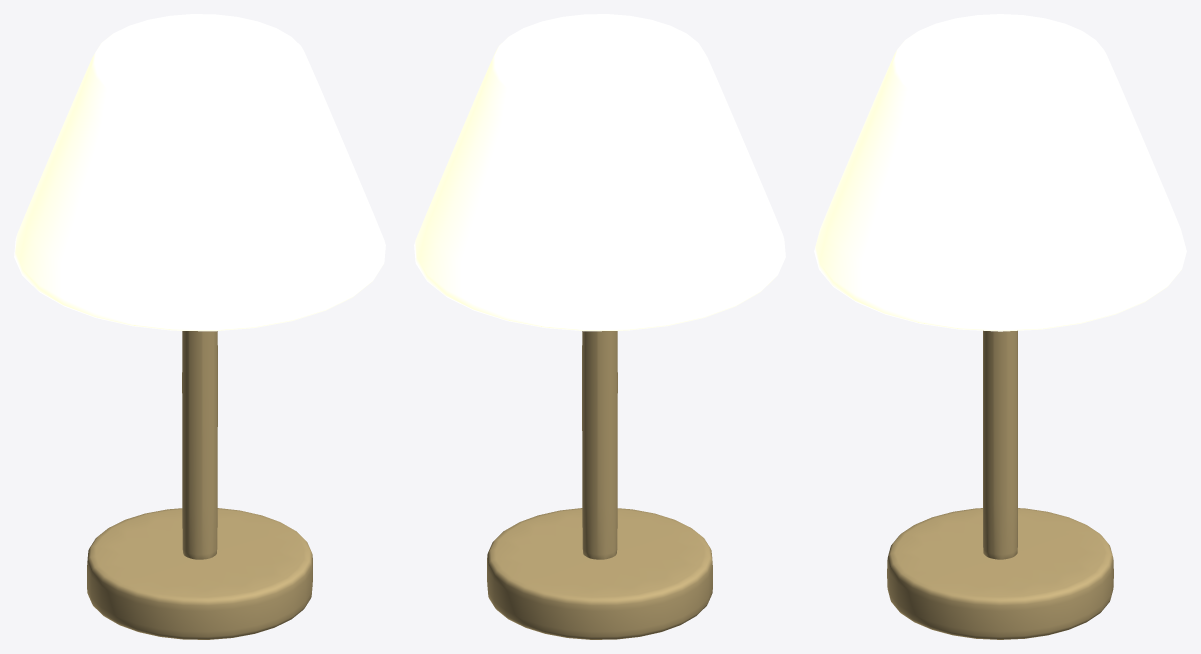
File: old_lamp.glb
The picture shows the model from 3 angles, left to right: view 1: azimuth 30°, elevation 25°; view 2: azimuth 150°, elevation 25°; view 3: azimuth 270°, elevation 25°; orthographic projection.
Parts seen in each view (by area): view 1: old_lamp; view 2: old_lamp; view 3: old_lamp.
Boxes of the visible parts, bbox=[...] form: old_lamp: bbox=[14, 14, 385, 639]; old_lamp: bbox=[414, 14, 785, 639]; old_lamp: bbox=[814, 14, 1186, 639].
Size of the model in its own units: 0.4766 by 0.7599 by 0.4767.
